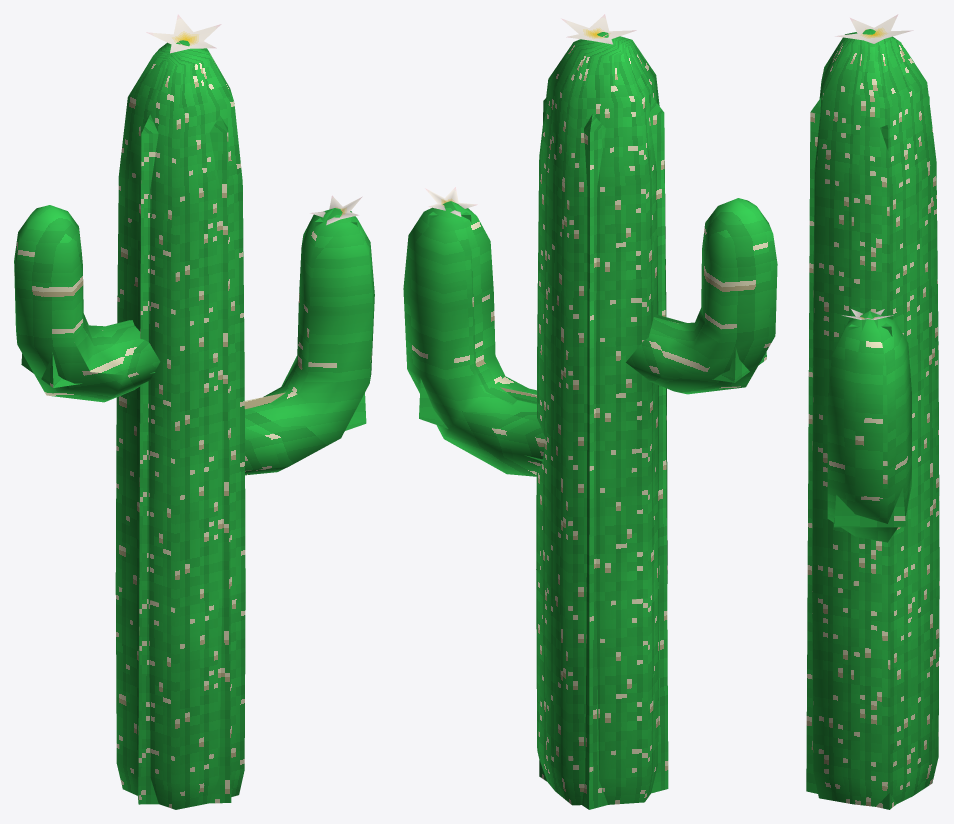
The model's file is p_saguaro.glb.
3 renders of one model, left to right at view 1: azimuth 30°, elevation 25°; view 2: azimuth 150°, elevation 25°; view 3: azimuth 270°, elevation 25°, orthographic.
Visible parts, largest first — view 1: sg_cactus, sg_far; view 2: sg_cactus, sg_far; view 3: sg_cactus, sg_far.
Boxes of the visible parts, left/top/right/bottom form: sg_cactus: left=14, top=14, right=374, bottom=809; sg_far: left=21, top=114, right=366, bottom=804; sg_cactus: left=403, top=14, right=777, bottom=805; sg_far: left=419, top=96, right=766, bottom=809; sg_cactus: left=812, top=14, right=939, bottom=806; sg_far: left=806, top=96, right=929, bottom=809.
Bounding box in the file's own units: 2.02 × 4.04 × 0.6407.
Materials: 1 (1 with a texture image).
